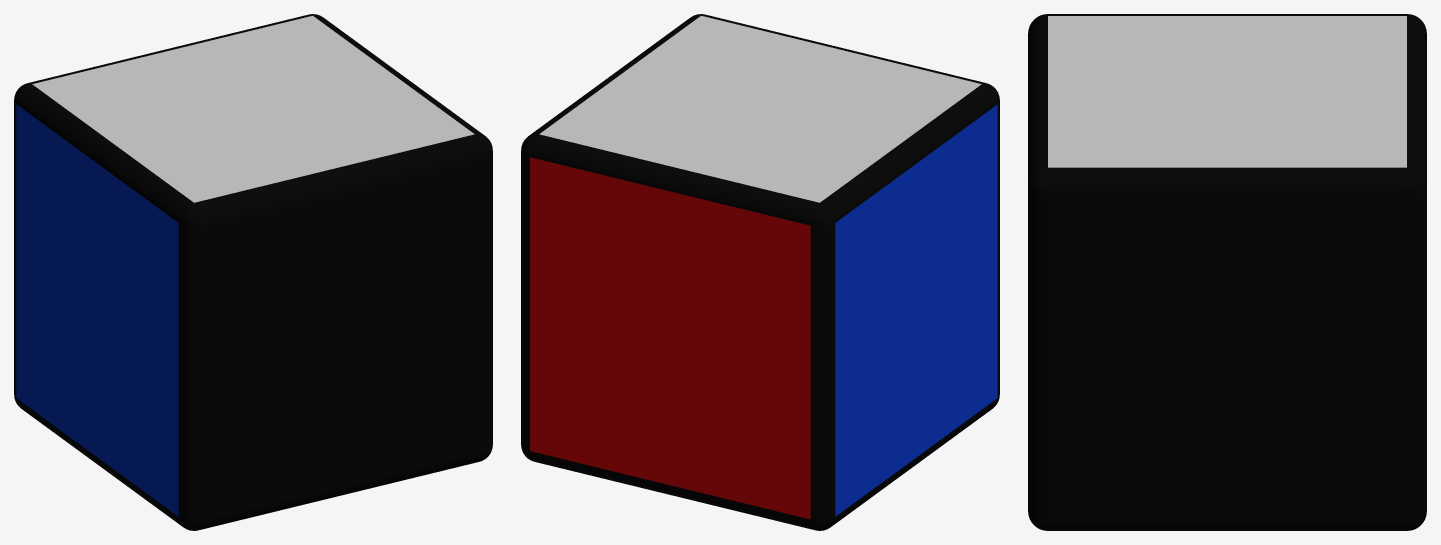
The model's file is alpha1.obj.
The picture shows the model from 3 angles, left to right: view 1: azimuth 30°, elevation 25°; view 2: azimuth 150°, elevation 25°; view 3: azimuth 270°, elevation 25°; orthographic projection. The views are drawn at different scales.
Visible parts, largest first — view 1: Cube.003; view 2: Cube.003; view 3: Cube.003.
Boxes of the visible parts, bbox=[...] form: Cube.003: bbox=[14, 14, 492, 530]; Cube.003: bbox=[521, 14, 999, 530]; Cube.003: bbox=[1028, 14, 1426, 530].
Size of the model in its own units: 4.28 by 4.28 by 4.28.
